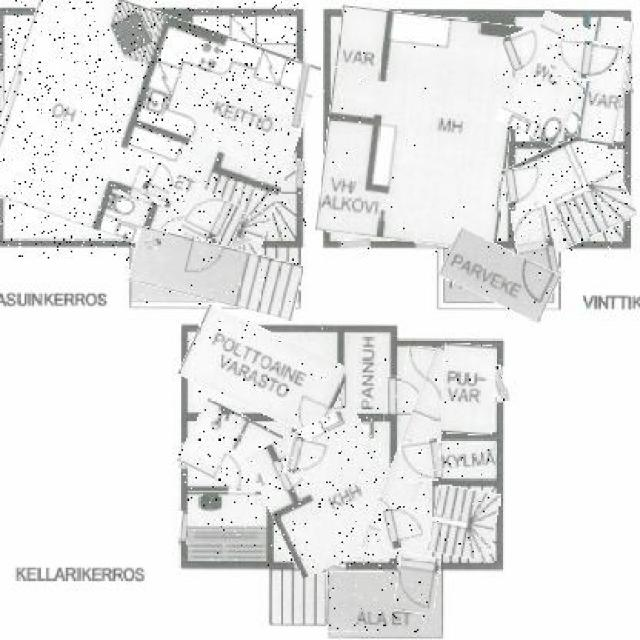door: (514, 206, 557, 285), (185, 192, 243, 246), (550, 38, 622, 80), (396, 554, 438, 614), (378, 504, 431, 548), (383, 376, 429, 422), (303, 370, 349, 416), (286, 437, 328, 480), (182, 239, 223, 283), (400, 440, 442, 482), (503, 28, 546, 69), (406, 348, 449, 384), (143, 162, 177, 204), (506, 168, 543, 203)
window: (417, 231, 495, 258), (0, 69, 14, 189), (294, 63, 308, 128), (297, 557, 345, 574), (492, 366, 508, 402), (340, 238, 371, 252), (177, 510, 189, 544), (622, 64, 632, 96), (180, 443, 189, 468), (295, 158, 303, 184), (232, 240, 251, 249), (145, 240, 160, 249)
zone: (0, 0, 306, 260), (323, 11, 517, 246), (257, 416, 398, 570), (182, 318, 346, 424), (378, 346, 451, 559), (508, 135, 629, 251), (130, 237, 302, 311), (506, 14, 594, 143), (183, 409, 297, 497), (441, 238, 557, 312), (326, 572, 442, 632), (583, 17, 629, 146), (189, 491, 269, 560), (431, 486, 497, 560), (442, 344, 496, 434), (346, 332, 389, 412), (440, 443, 497, 477)
